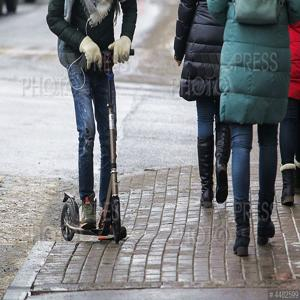human on a scooter: (46, 1, 139, 244)
